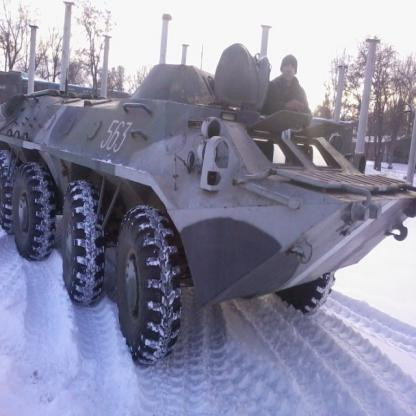MIL_IFV: (0, 44, 415, 364)
